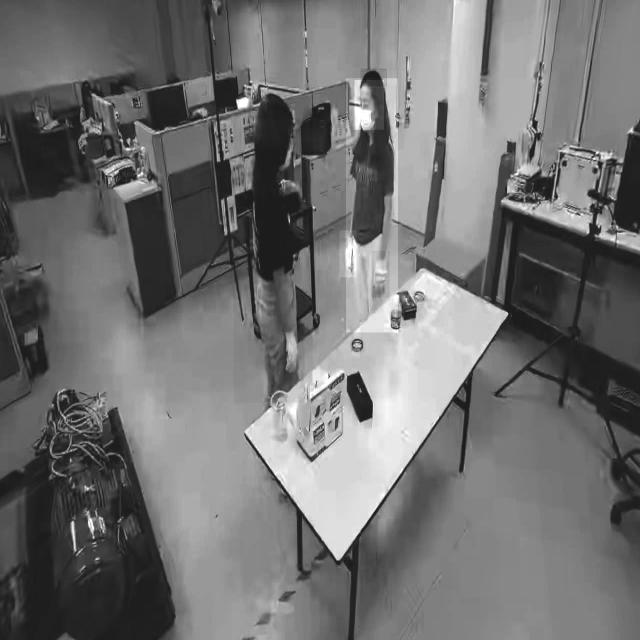face_mask: (354, 80, 384, 130)
hand_glove: (283, 324, 305, 382), (339, 230, 357, 278), (371, 250, 389, 298)
head_nohelmet: (257, 92, 293, 120), (360, 69, 387, 87)
person: (233, 89, 313, 403), (346, 79, 398, 334)
